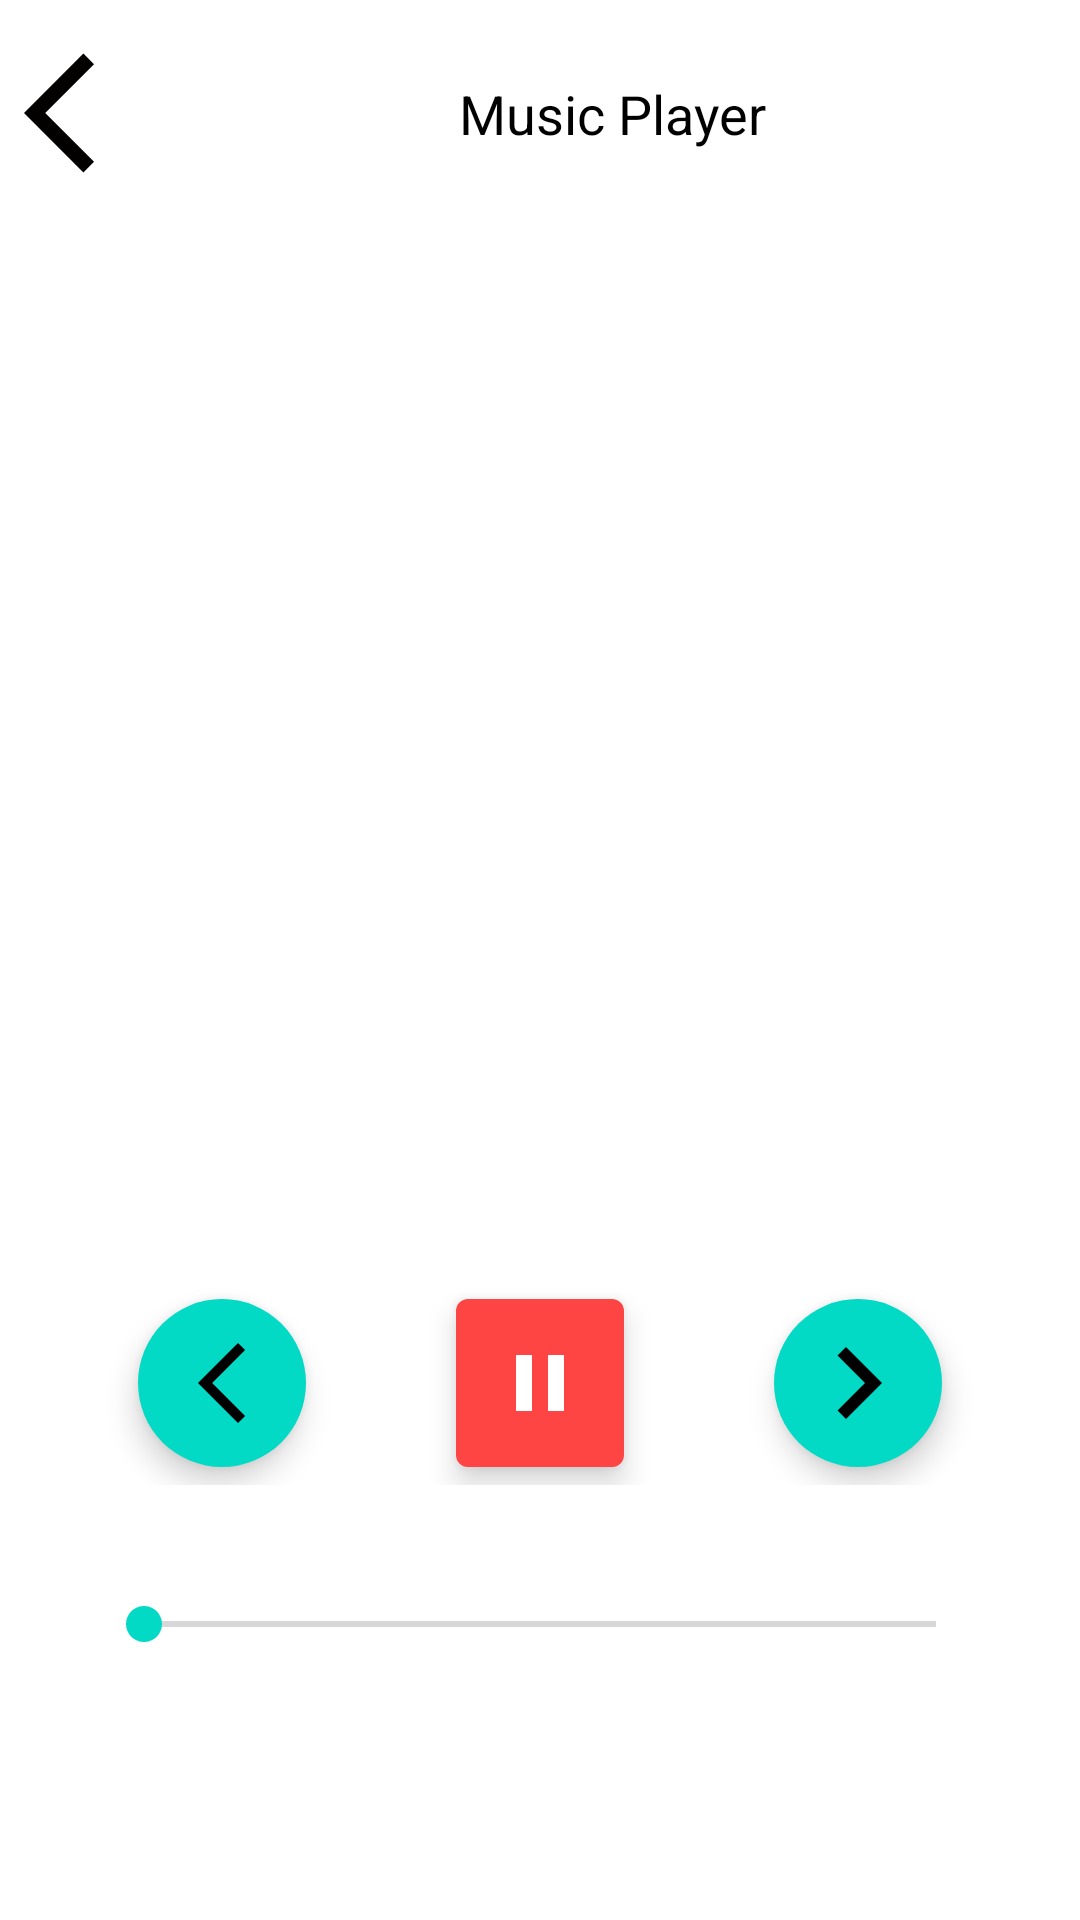

Screen size 1080 x 1920. Icon name, then its center in pixels as point (x, y):
Back Button: point (59, 113)
next: point (858, 1383)
pause: point (540, 1383)
previous: point (222, 1383)
